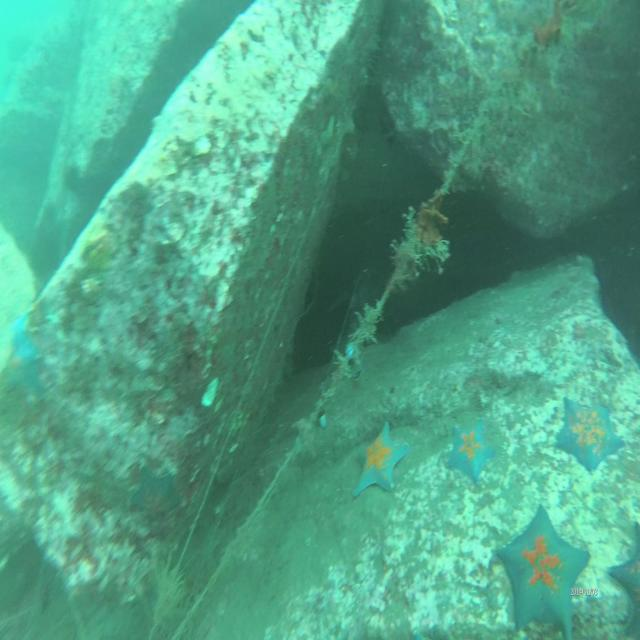starfish: (494, 502, 589, 640), (554, 396, 624, 474), (1, 310, 48, 406), (353, 419, 408, 493), (608, 515, 640, 636), (131, 463, 179, 542), (445, 418, 494, 485)
